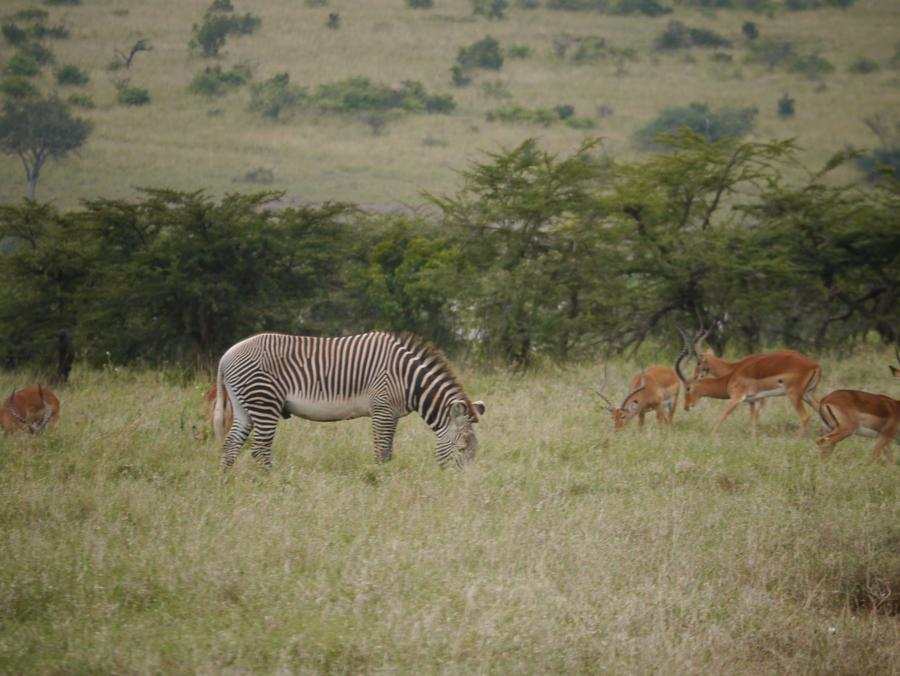zebra_grevys: (215, 328, 398, 426)
